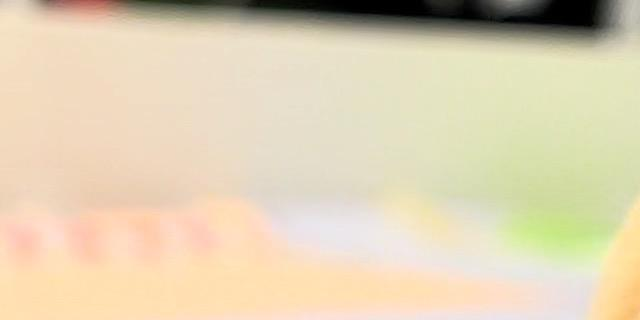burger: (431, 0, 640, 320)
